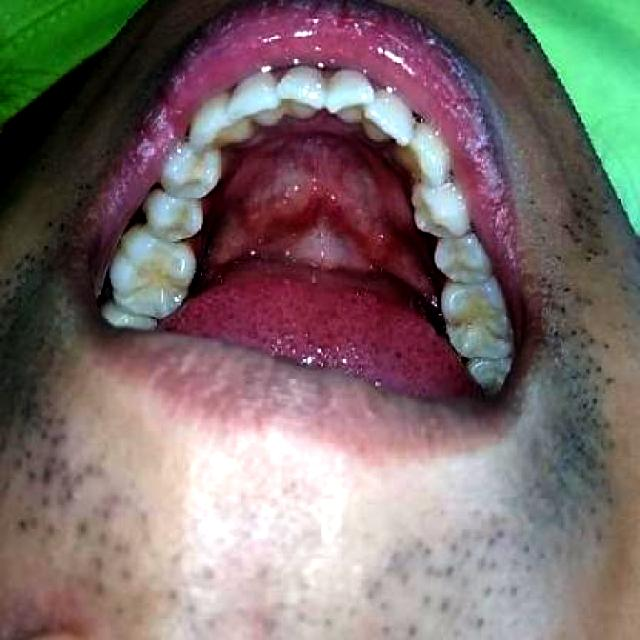Plaque: (482, 312, 512, 355), (446, 317, 472, 343)
